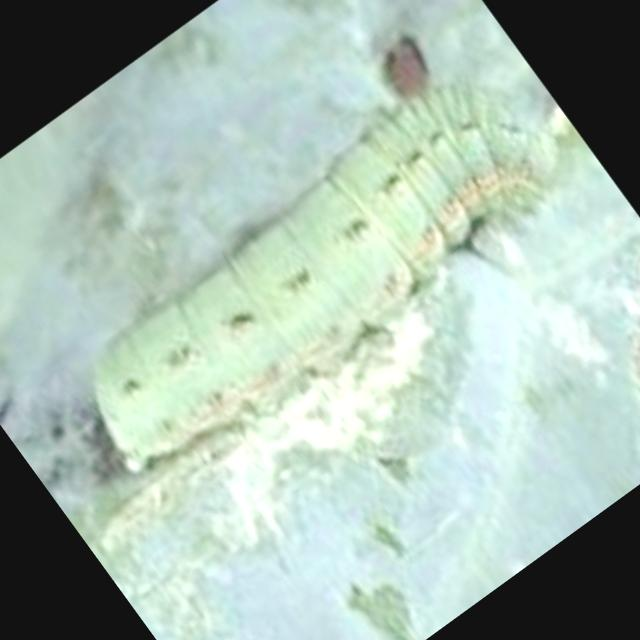Beet armyworm: (19, 11, 638, 567)
